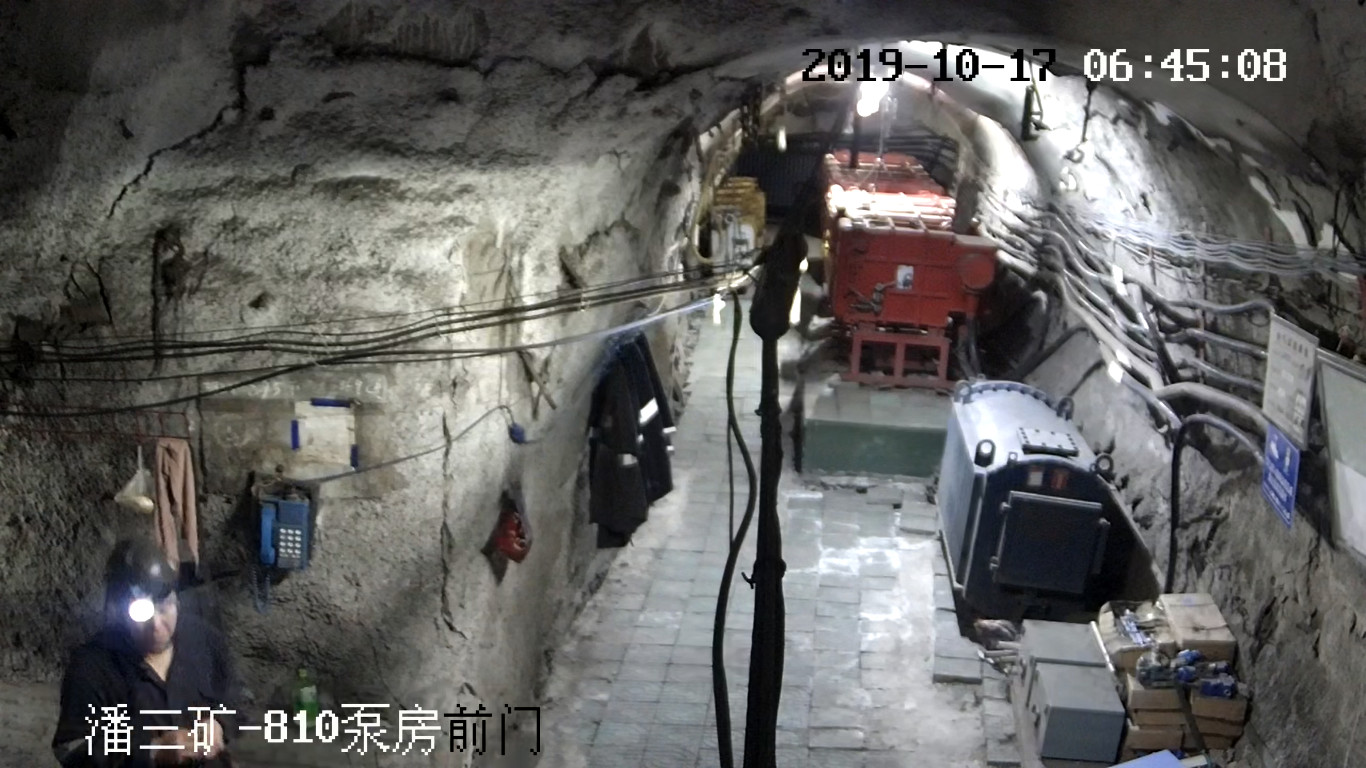helmet: (104, 538, 176, 623)
